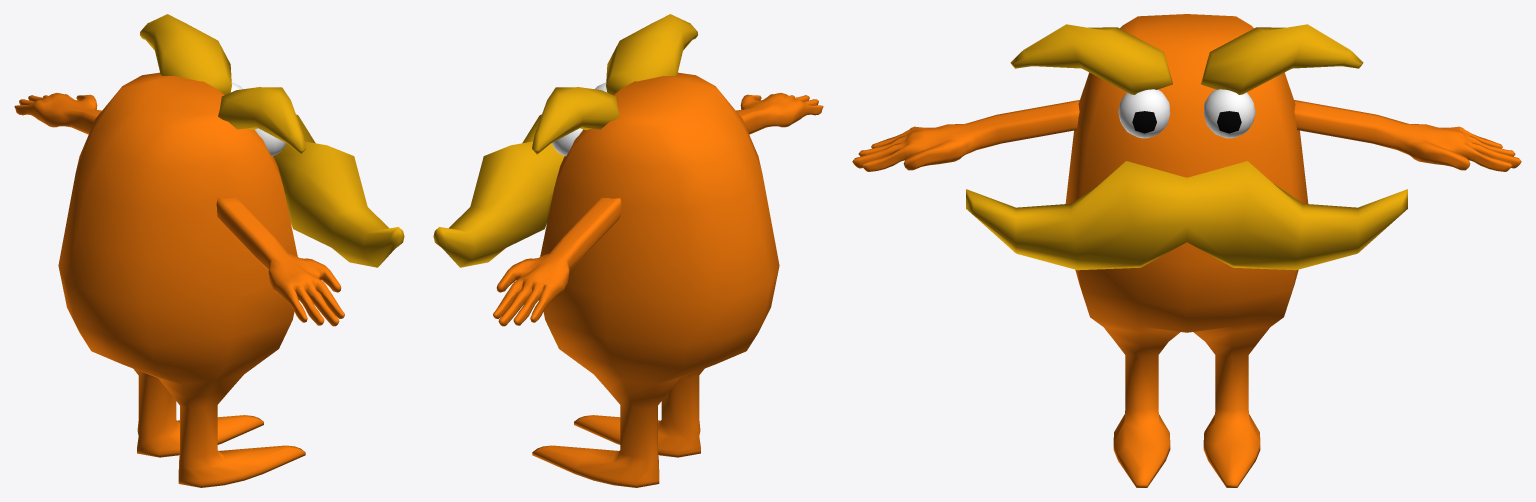
File: Lorax.fbx
3 renders of one model, left to right at view 1: azimuth 30°, elevation 25°; view 2: azimuth 150°, elevation 25°; view 3: azimuth 270°, elevation 25°, orthographic. The views are drawn at different scales.
Visible parts, largest first — view 1: Lorax; view 2: Lorax; view 3: Lorax.
Boxes of the visible parts, x1,y1,x2,y2 form: Lorax: [14, 14, 404, 487]; Lorax: [433, 14, 823, 487]; Lorax: [852, 14, 1521, 487].
Size of the model in its own units: 76.44 by 109 by 153.
